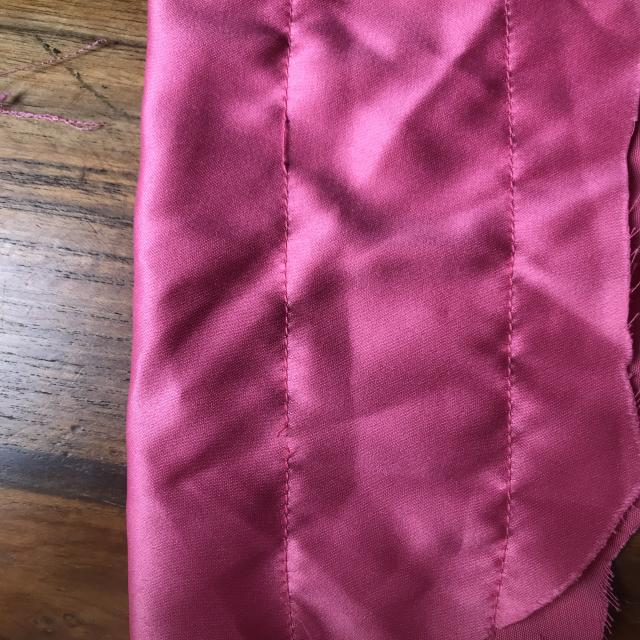broken: (254, 410, 312, 468)
good: (489, 237, 532, 361)
skip: (256, 94, 323, 190)
